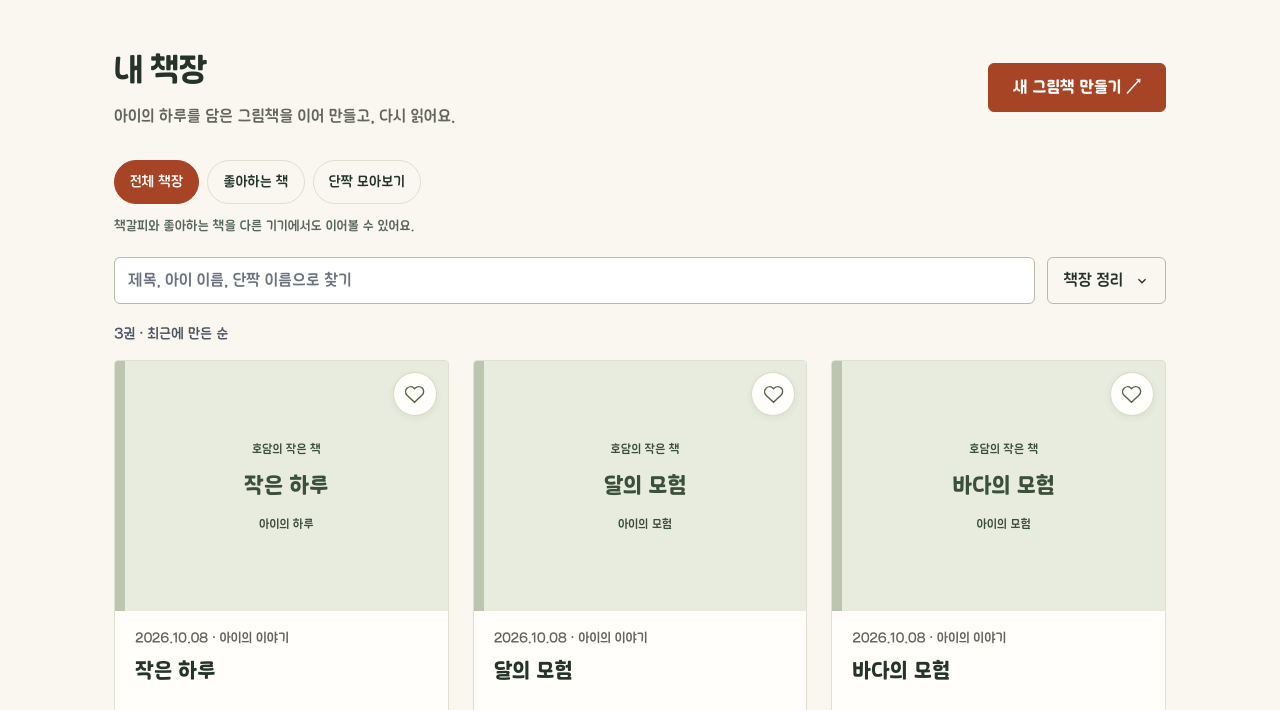
Test: MyStoryLibrary discovery › reports a rejected favorite mutation without displaying a saved favorite
Check: the heading "작은 하루" is shown, box [135,659,216,683]
Click the button named "작은 하루 좋아하는 책에 담기".
click(415, 394)  # box [393,372,437,416]
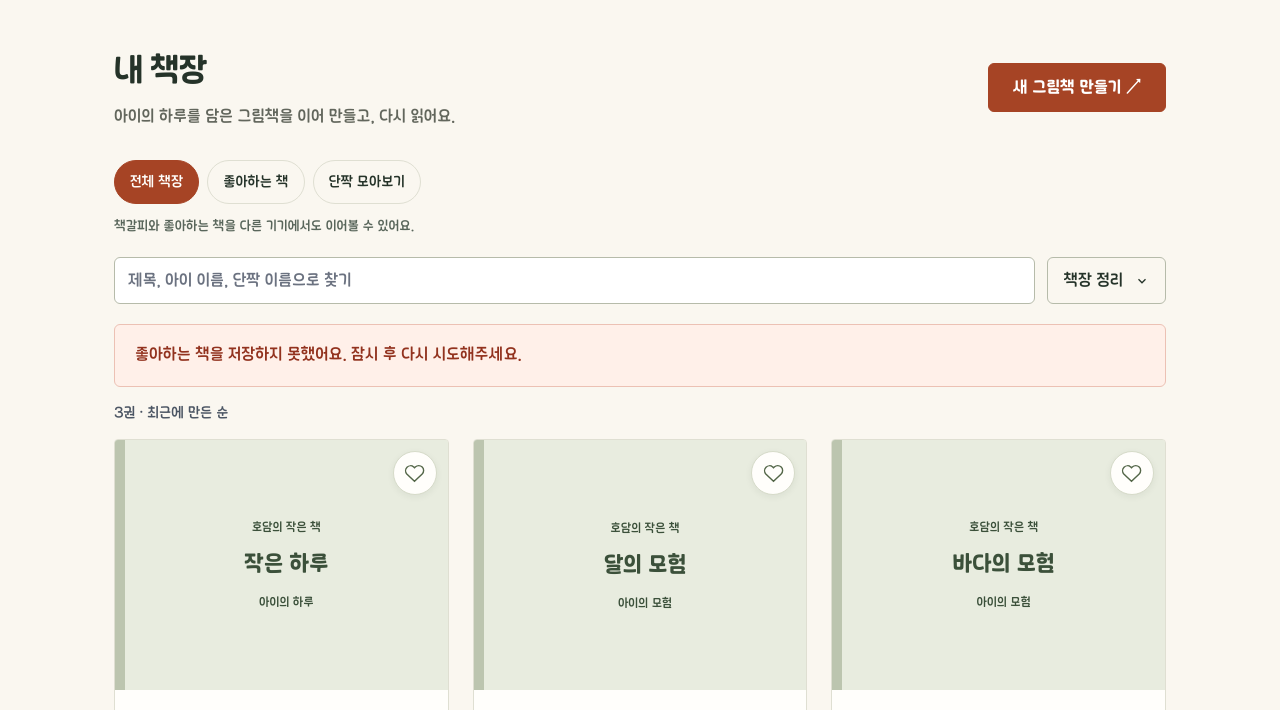
Check: the text "좋아하는 책을 저장하지 못했어요. 잠시 후 다시 시도해주세요." is shown, box [114,324,1166,387]
